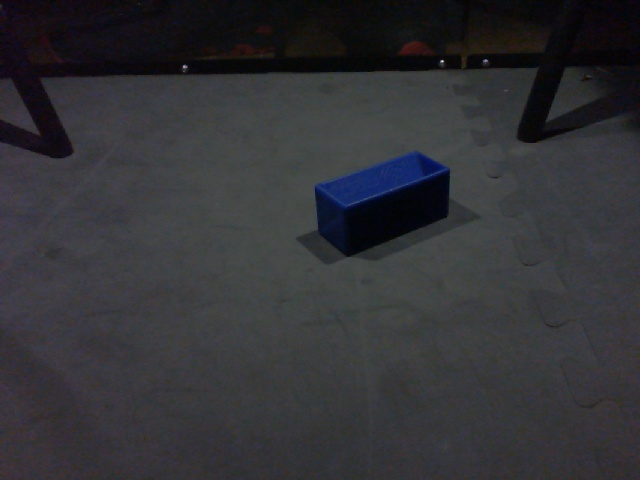BlueSample: (312, 149, 454, 257)
